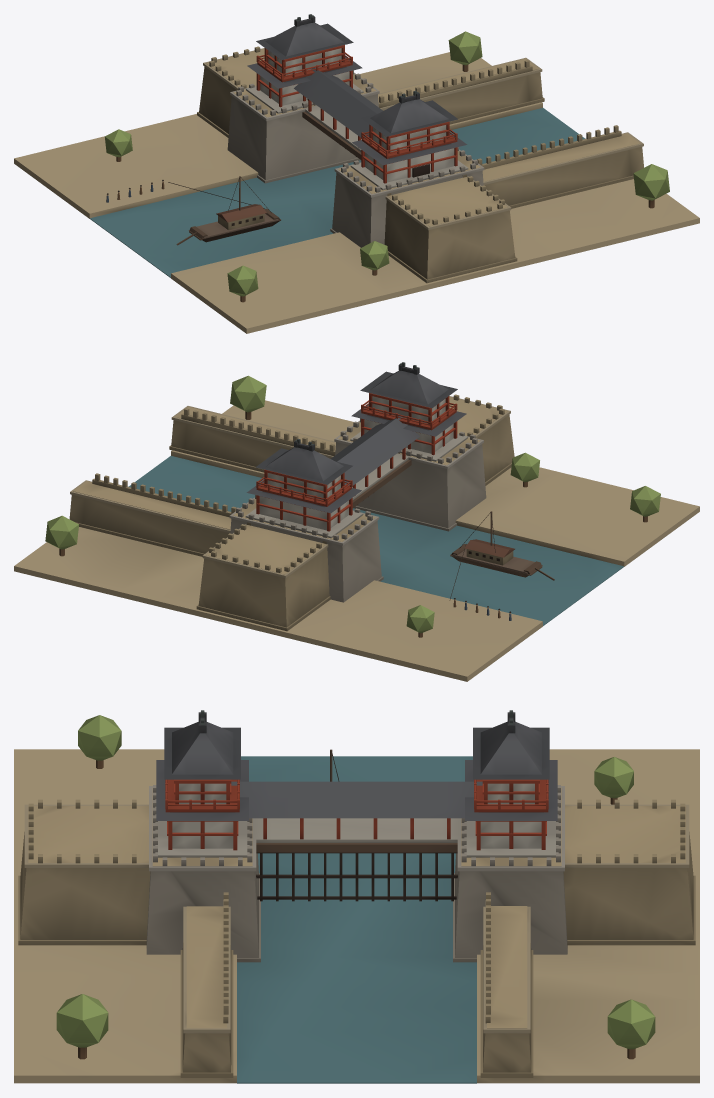
The model's file is east-water-gate.glb.
3 views of the same model, one above another, from view 1: azimuth 30°, elevation 25°; view 2: azimuth 150°, elevation 25°; view 3: azimuth 270°, elevation 25° (orthographic). The views are drawn at different scales.
Visible parts, largest first — view 1: p0_walls, p2_trees, p1_gallery; view 2: p0_walls, p2_trees, p1_gallery; view 3: p0_walls, p1_gallery, p2_trees.
Boxes of the visible parts, bbox=[...] form: p0_walls: bbox=[14, 46, 699, 333]; p2_trees: bbox=[104, 14, 669, 302]; p1_gallery: bbox=[246, 45, 468, 190]; p0_walls: bbox=[14, 394, 699, 681]; p2_trees: bbox=[45, 362, 660, 637]; p1_gallery: bbox=[245, 393, 467, 538]; p0_walls: bbox=[14, 749, 699, 1083]; p1_gallery: bbox=[155, 779, 558, 901]; p2_trees: bbox=[56, 710, 655, 1059].
Bounding box in the file's own units: 90.6 × 26.4 × 80.
